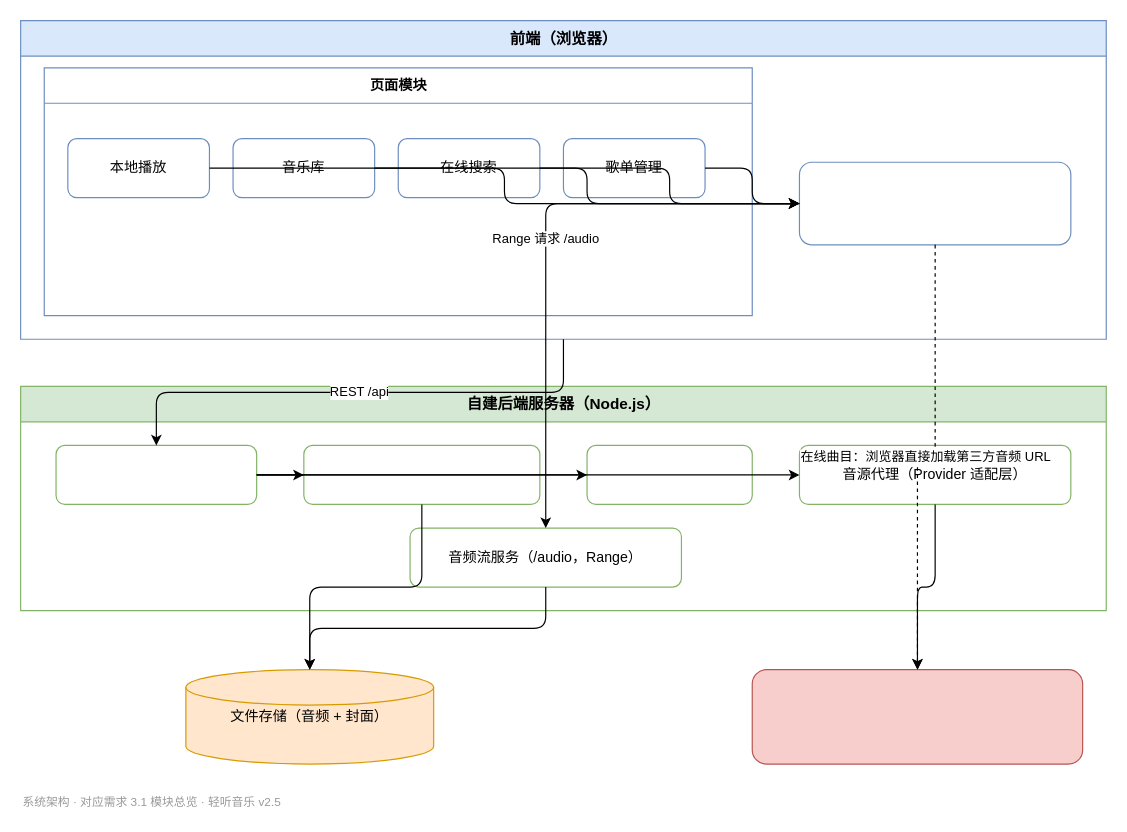
This 1127x832 diagram has some shape labels left out. Each missing label, with the centre of its shape:
"HTTP API（/api）" belongs at (156,474).
"上传 + 元数据解析" belongs at (421,474).
"播放器核心 （底部播放条）" belongs at (934,203).
"歌单存储" belongs at (669,474).
"第三方音源服务（自部署 NeteaseCloudMusicApi 等）" belongs at (917,716).
